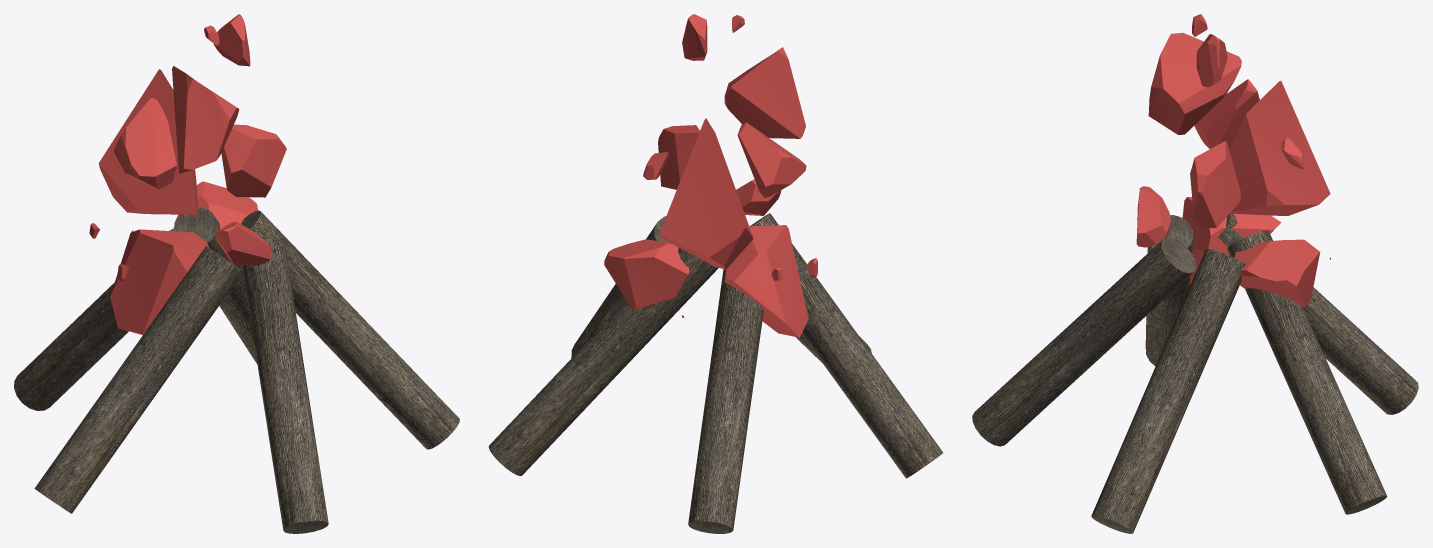
The model's file is fire.glb.
The picture shows the model from 3 angles, left to right: view 1: azimuth 30°, elevation 25°; view 2: azimuth 150°, elevation 25°; view 3: azimuth 270°, elevation 25°; orthographic projection.
Parts seen in each view (by area): view 1: Cloner.1, Cube_fracturepart426, Cube_fracturepart266, Cube_fracturepart430, Cube_fracturepart270, Cube_fracturepart427, Cube_fracturepart587, Cube_fracturepart263, Cube_fracturepart431; view 2: Cloner.1, Cube_fracturepart266, Cube_fracturepart426, Cube_fracturepart430, Cube_fracturepart263, Cube_fracturepart270, Cube_fracturepart427, Cube_fracturepart431, Cube_fracturepart587; view 3: Cloner.1, Cube_fracturepart266, Cube_fracturepart430, Cube_fracturepart263, Cube_fracturepart427, Cube_fracturepart270, Cube_fracturepart426, Cube_fracturepart587, Cube_fracturepart431.
Part boxes in pixels (x1,y1,x2,y2): Cloner.1: [14, 207, 459, 533]; Cube_fracturepart426: [110, 229, 208, 335]; Cube_fracturepart266: [98, 69, 198, 214]; Cube_fracturepart430: [172, 66, 239, 173]; Cube_fracturepart270: [113, 98, 176, 189]; Cube_fracturepart427: [221, 124, 286, 197]; Cube_fracturepart587: [215, 221, 271, 265]; Cube_fracturepart263: [174, 181, 258, 257]; Cube_fracturepart431: [213, 14, 250, 66]; Cloner.1: [488, 213, 943, 533]; Cube_fracturepart266: [659, 118, 753, 269]; Cube_fracturepart426: [724, 225, 808, 337]; Cube_fracturepart430: [724, 47, 805, 138]; Cube_fracturepart263: [604, 239, 689, 310]; Cube_fracturepart270: [737, 122, 806, 197]; Cube_fracturepart427: [658, 125, 699, 189]; Cube_fracturepart431: [682, 14, 707, 60]; Cube_fracturepart587: [736, 179, 781, 215]; Cloner.1: [972, 213, 1418, 533]; Cube_fracturepart266: [1229, 80, 1330, 215]; Cube_fracturepart430: [1148, 33, 1241, 134]; Cube_fracturepart263: [1234, 239, 1320, 306]; Cube_fracturepart427: [1190, 140, 1240, 228]; Cube_fracturepart270: [1194, 79, 1259, 149]; Cube_fracturepart426: [1182, 197, 1281, 284]; Cube_fracturepart587: [1136, 186, 1170, 247]; Cube_fracturepart431: [1196, 34, 1227, 87].
Size of what is drawn, in the model's own units: 3.07 by 3.25 by 3.04.
Materials: 2 (1 with a texture image).
